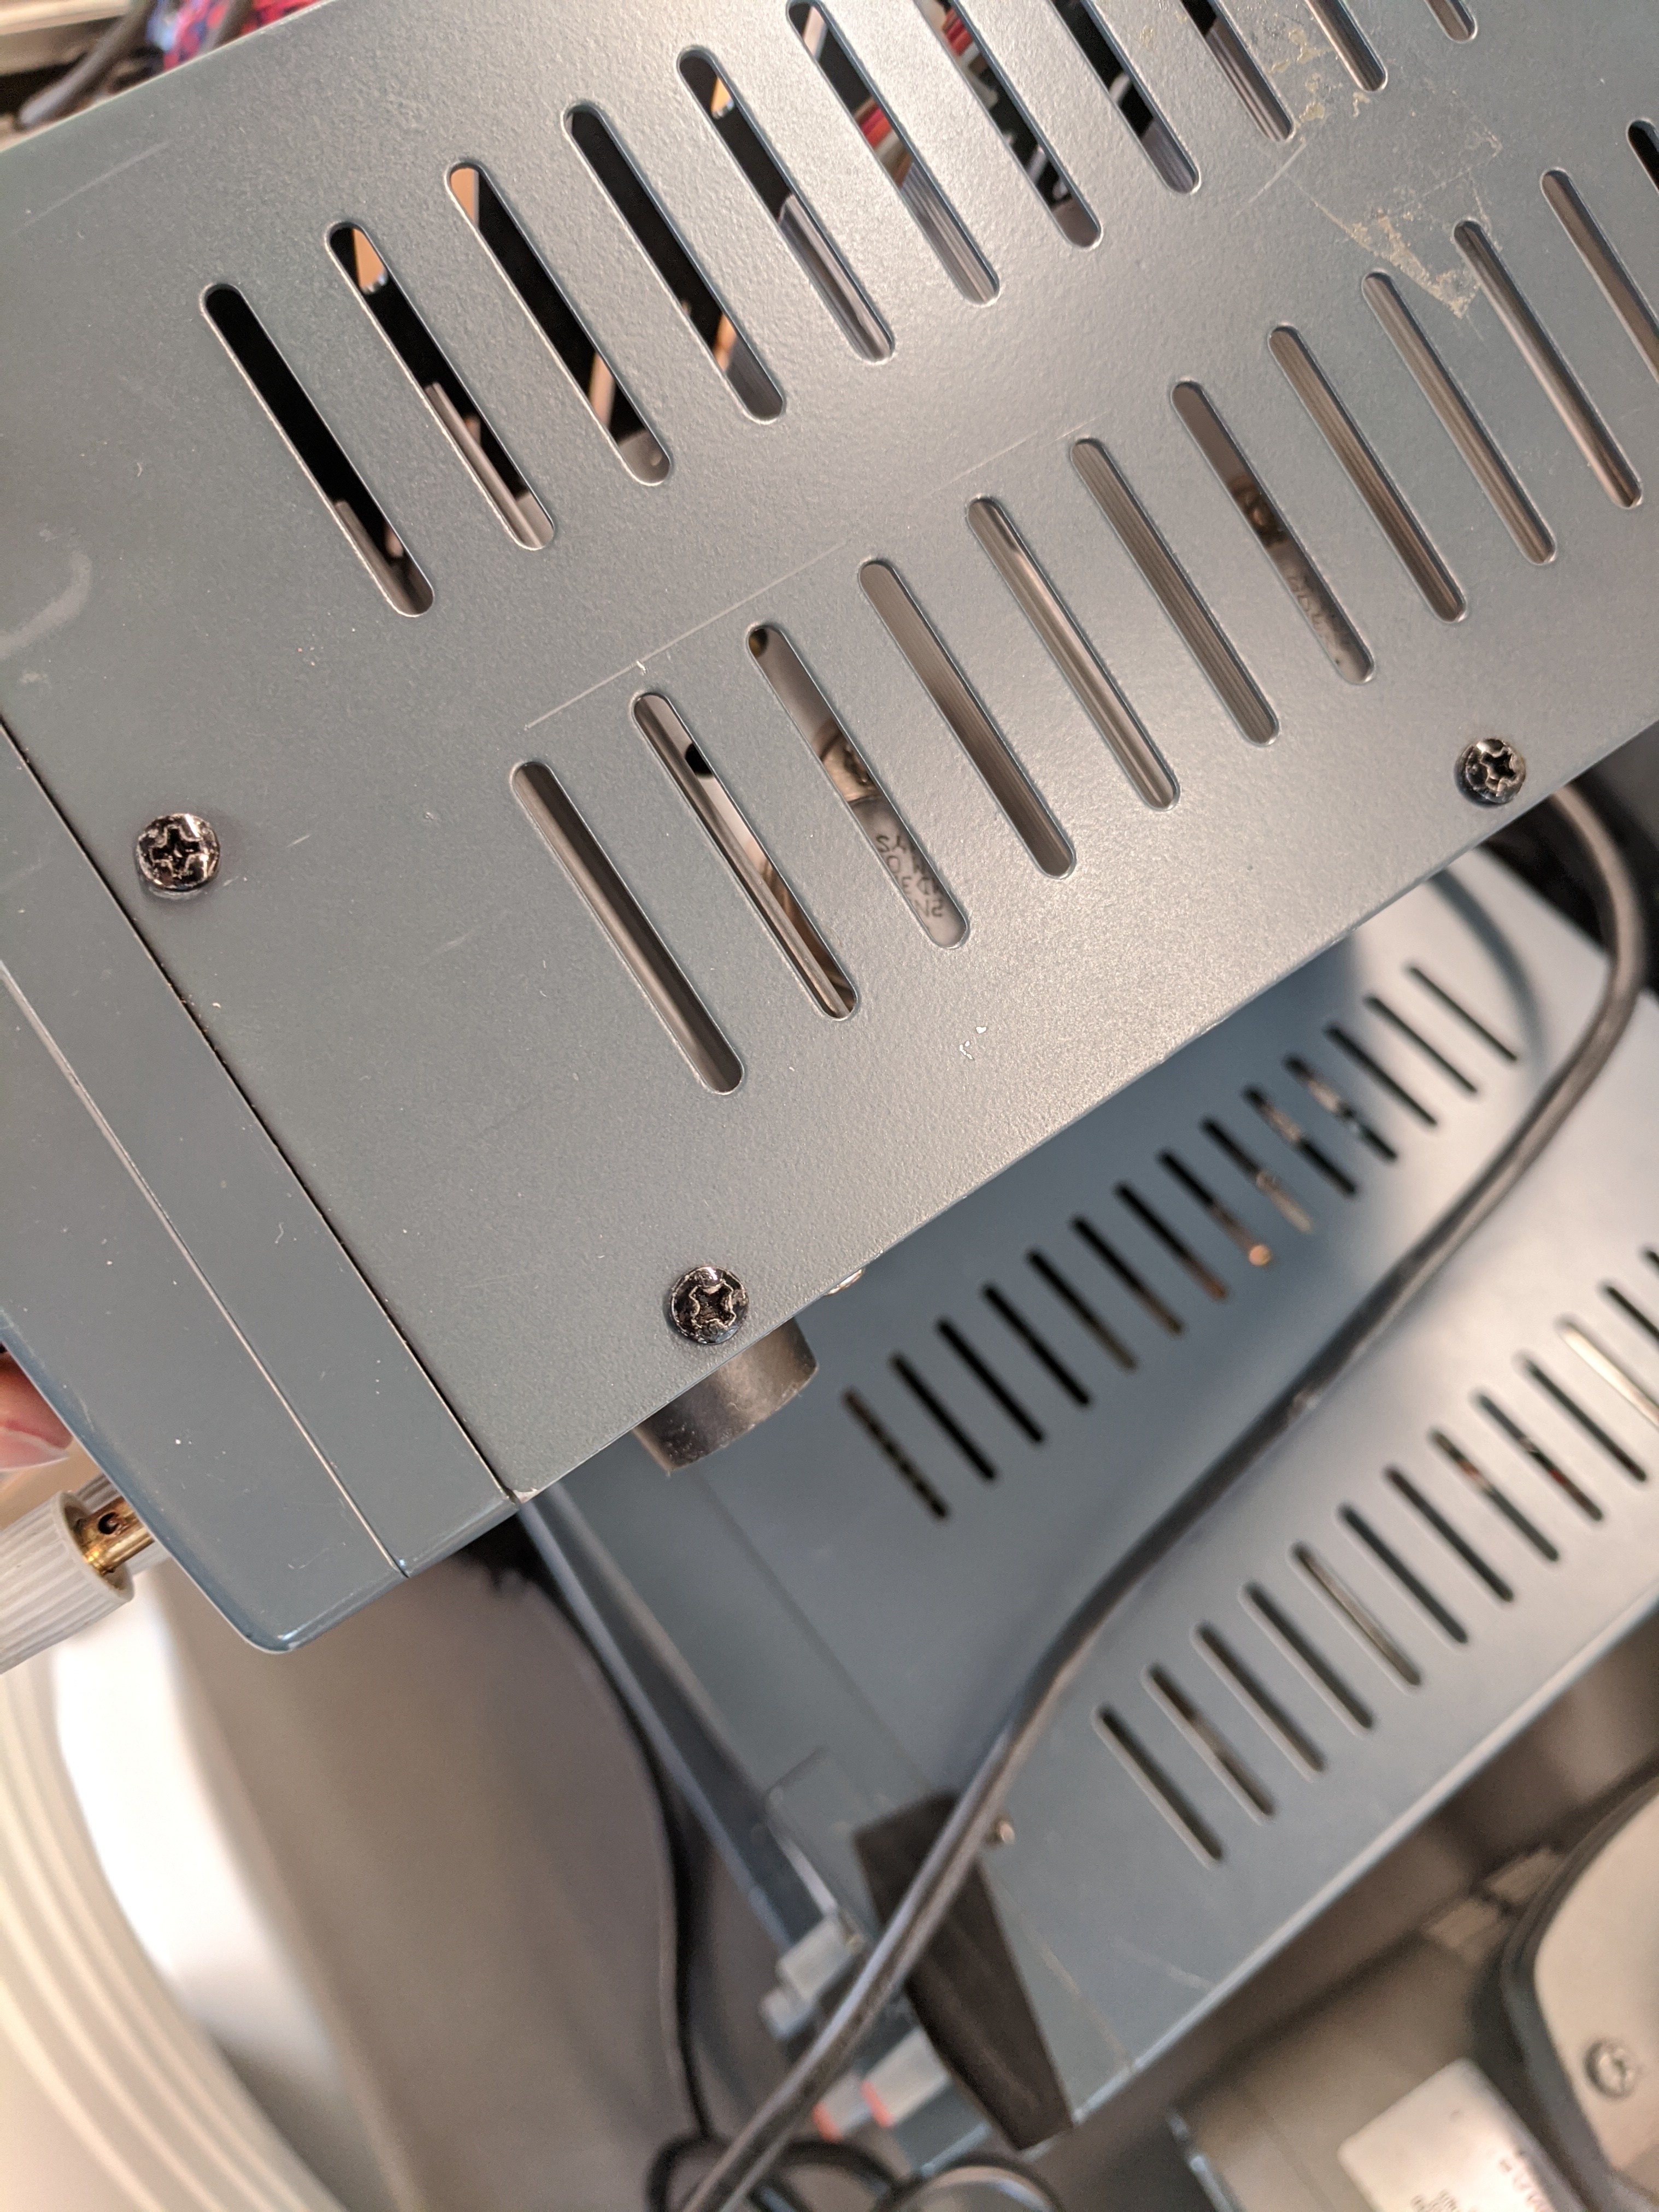cross_recessed_screw: (648, 1244, 748, 1352), (118, 796, 221, 897), (1443, 718, 1527, 803)
